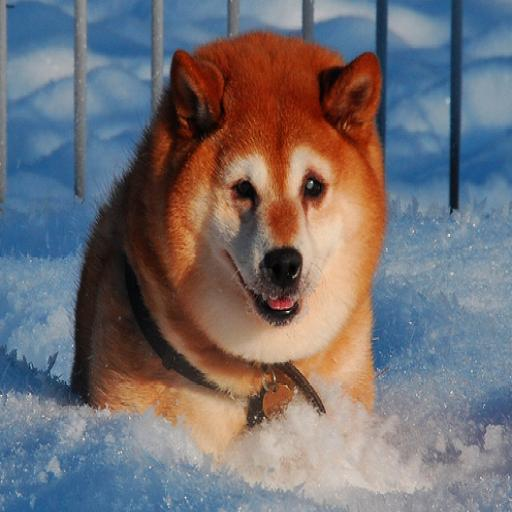dog_face: (175, 45, 370, 324)
